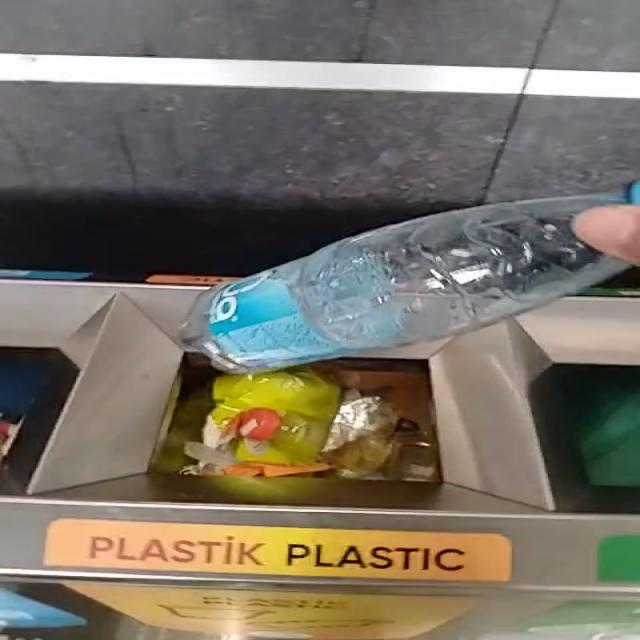plastic: (180, 193, 629, 373)
